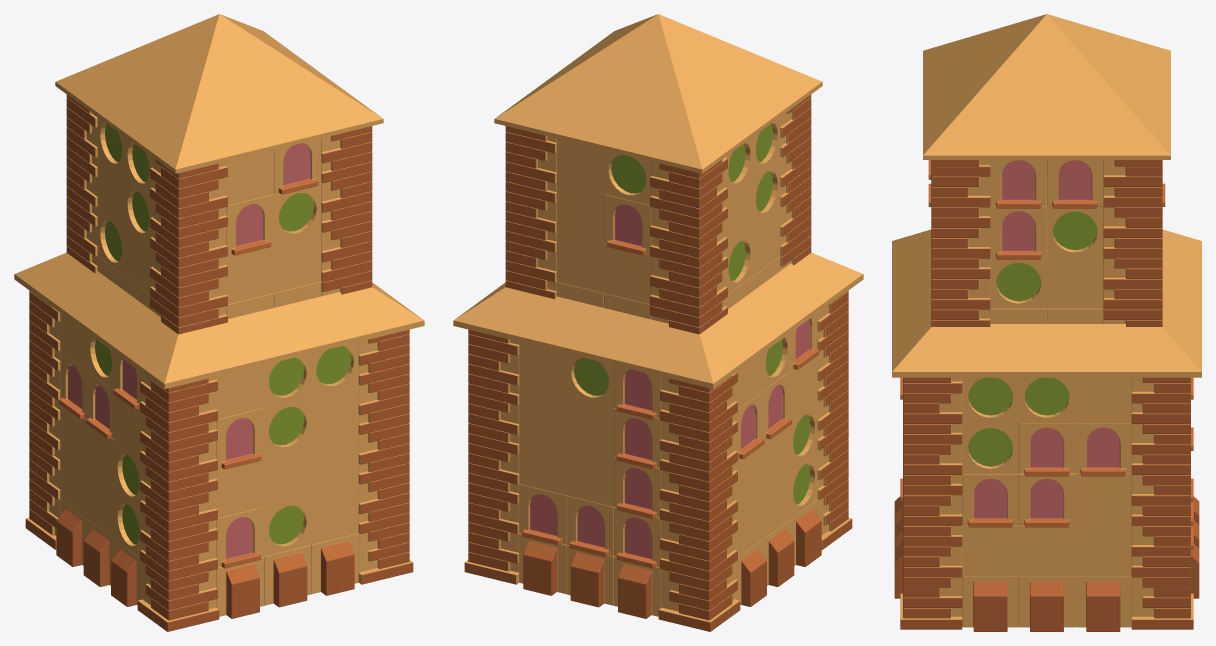
The model's file is house v3.009.fbx.
3 renders of one model, left to right at view 1: azimuth 30°, elevation 25°; view 2: azimuth 150°, elevation 25°; view 3: azimuth 270°, elevation 25°, orthographic. The views are drawn at different scales.
Parts seen in each view (by area): view 1: House; view 2: House; view 3: House.
Part boxes in pixels (x1,y1,x2,y2): House: [14, 14, 424, 631]; House: [453, 14, 863, 631]; House: [892, 14, 1201, 631].
Size of the model in its own units: 549 by 1083 by 549.
